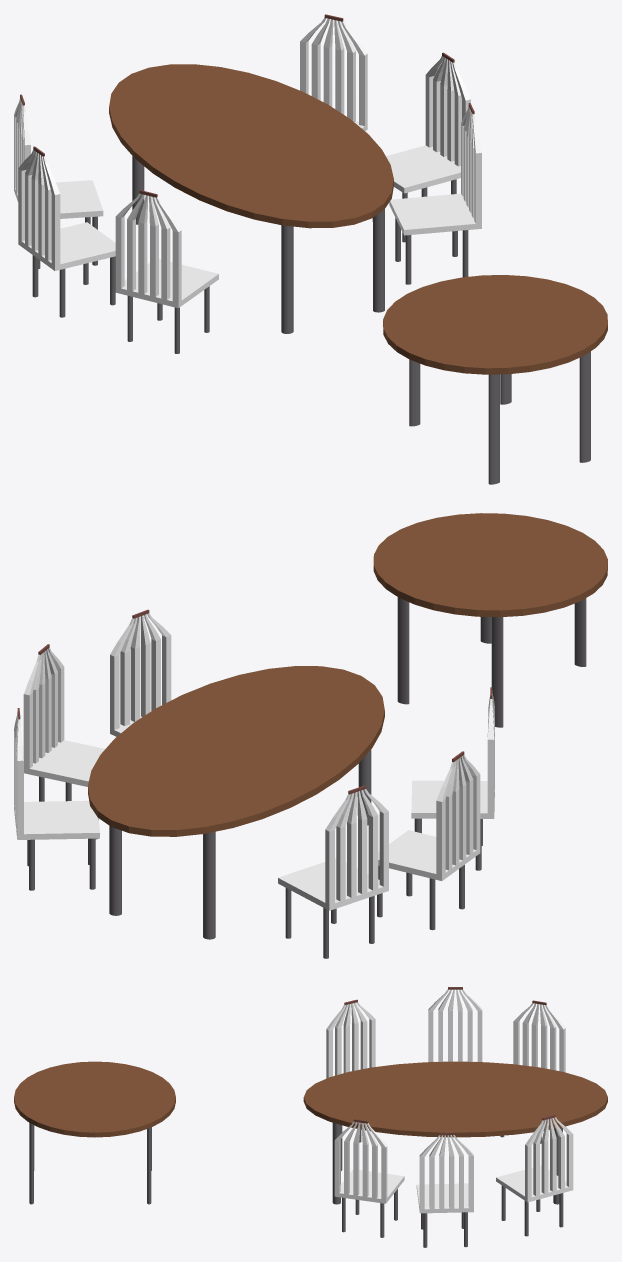
File: jampöytä.fbx
3 views of the same model, one above another, from view 1: azimuth 30°, elevation 25°; view 2: azimuth 150°, elevation 25°; view 3: azimuth 270°, elevation 25° (orthographic). The views are drawn at different scales.
Parts seen in each view (by area): view 1: Cylinder, Cylinder.009, Cube.003, Cube.001, Cube.006, Cube.005, Cube.004, Cube.002, Cylinder.002, Cylinder.001; view 2: Cylinder, Cylinder.009, Cube.002, Cube.001, Cube.006, Cube.005, Cube.004, Cube.003, Cylinder.003, Cylinder.004; view 3: Cylinder, Cylinder.009, Cube.004, Cube.005, Cube.006, Cube.003, Cube.002, Cube.001, Cylinder.001.
Part boxes in pixels (x1,y1,x2,y2): Cylinder: (109,64,393,228); Cylinder.009: (383,275,607,484); Cube.003: (115,190,218,353); Cube.001: (18,146,115,317); Cube.006: (372,52,470,242); Cube.005: (389,103,481,284); Cube.004: (300,14,367,131); Cube.002: (14,94,103,268); Cylinder.002: (281,225,293,333); Cylinder.001: (373,209,384,312); Cylinder: (88,666,384,836); Cylinder.009: (373,513,607,727); Cube.002: (278,785,388,958); Cube.001: (377,751,480,930); Cube.006: (23,644,104,839); Cube.005: (110,609,171,736); Cube.004: (14,708,99,890); Cube.003: (411,687,494,870); Cylinder.003: (203,831,215,939); Cylinder.004: (109,826,121,915); Cylinder: (303,1061,607,1137); Cylinder.009: (14,1061,175,1204); Cube.004: (496,1114,573,1236); Cube.005: (334,1119,404,1237); Cube.006: (416,1132,473,1247); Cube.003: (326,999,375,1142); Cube.002: (500,1000,565,1143); Cube.001: (428,987,482,1061); Cylinder.001: (332,1123,340,1204).
Bounding box in the file's own units: 416 × 159 × 705.
